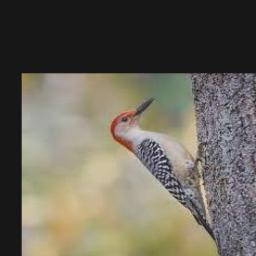Woodpecker: (110, 98, 217, 242)
